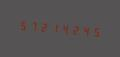five: (17, 16, 26, 34), (87, 22, 96, 40)
four: (57, 19, 66, 37), (77, 21, 86, 39)
one: (47, 18, 56, 36)
seven: (27, 17, 36, 34)
two: (67, 20, 76, 38), (37, 18, 46, 35)
